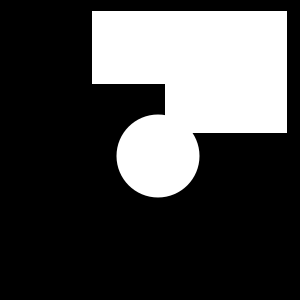circle: (165, 11, 287, 133), (92, 11, 165, 84)
rectangle: (116, 115, 199, 198)
